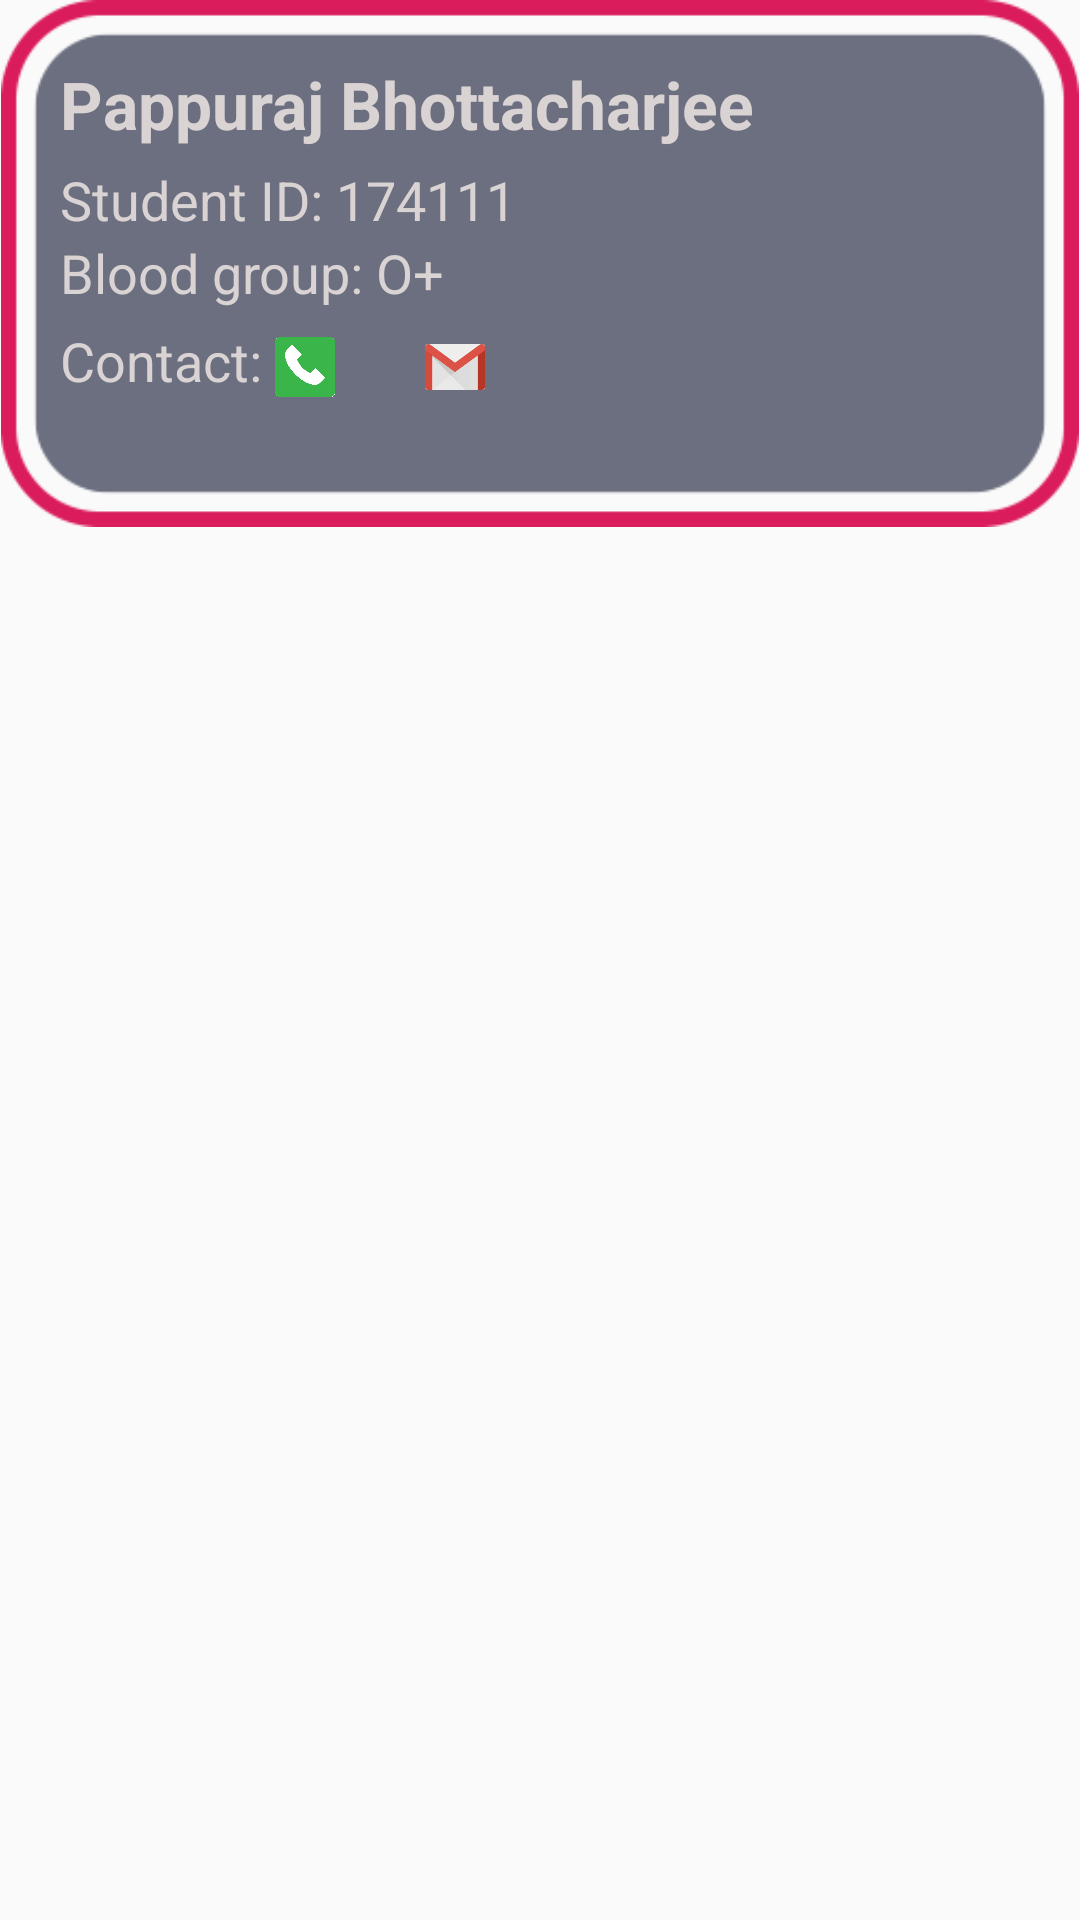

Screen size 1080px x 1920px. Icon name, then its center in pixels as point (x, y):
call: point (305, 367)
